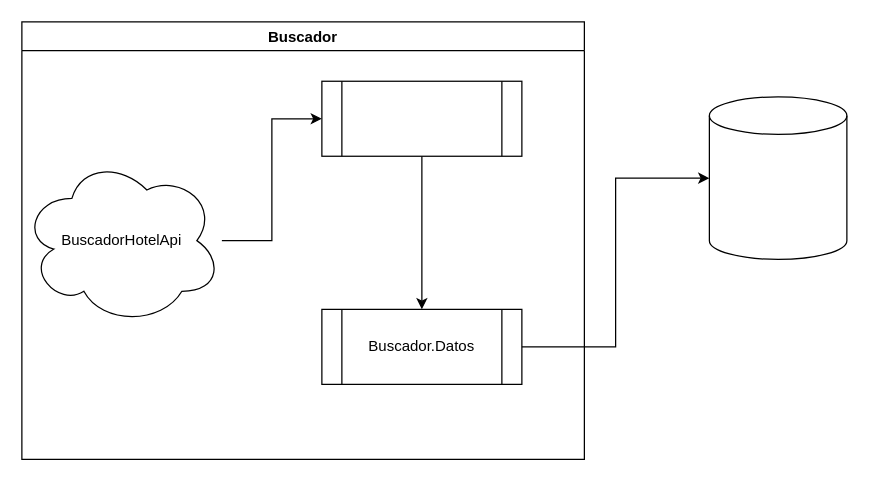
This 869x481 diagram has some shape labels left out. Here are the shapes that lost their labels. From the top down, the centre of each, then its label:
At point (421, 118): "Buscador.Negocio".
At point (777, 177): "BD".
